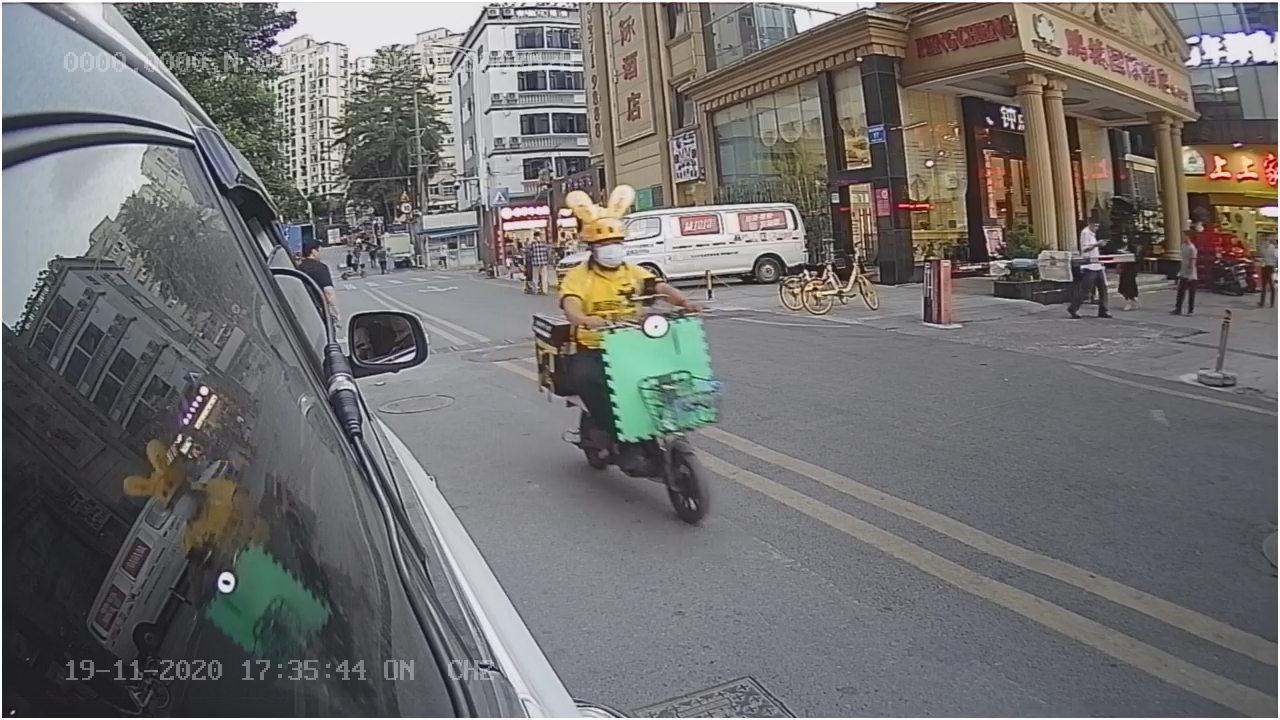person: (562, 221, 662, 323)
